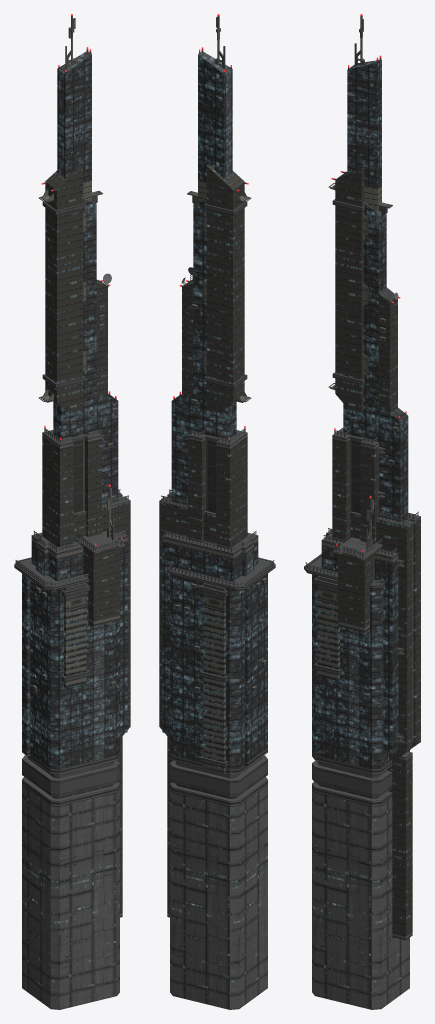
Rendered from Skyscraper_05.gltf.
The picture shows the model from 3 angles, left to right: view 1: azimuth 30°, elevation 25°; view 2: azimuth 150°, elevation 25°; view 3: azimuth 330°, elevation 25°; orthographic projection.
Parts seen in each view (by area): view 1: Skyscraper_05; view 2: Skyscraper_05; view 3: Skyscraper_05.
Boxes of the visible parts, x1=… form: Skyscraper_05: x1=14, y1=14, x2=130, y2=1009; Skyscraper_05: x1=159, y1=14, x2=275, y2=1009; Skyscraper_05: x1=304, y1=14, x2=420, y2=1009.
Bounding box in the file's own units: 24.88 × 245 × 21.15.
Materials: 2 (2 with a texture image).
